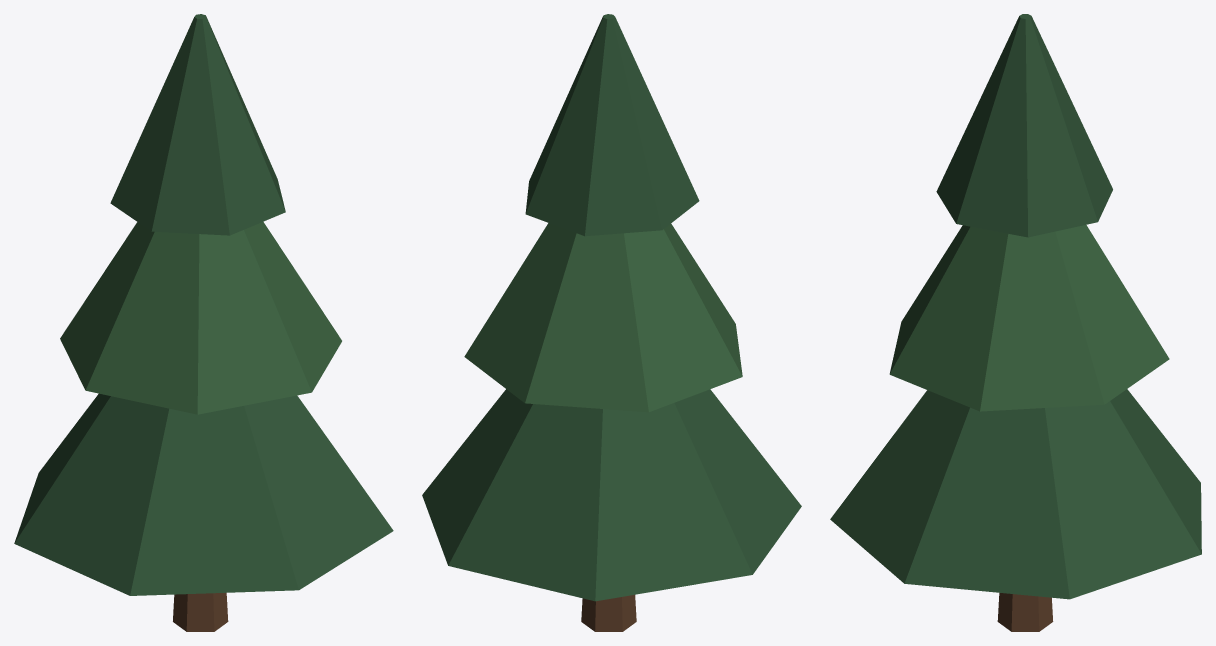
File: tree_conifer_full.glb
The picture shows the model from 3 angles, left to right: view 1: azimuth 30°, elevation 25°; view 2: azimuth 150°, elevation 25°; view 3: azimuth 270°, elevation 25°; orthographic projection.
Visible parts, largest first — view 1: tree_conifer_full.001; view 2: tree_conifer_full.001; view 3: tree_conifer_full.001.
Boxes of the visible parts, x1,y1,x2,y2 form: tree_conifer_full.001: (14, 14, 393, 631); tree_conifer_full.001: (422, 14, 801, 631); tree_conifer_full.001: (830, 14, 1201, 631).
Bounding box in the file's own units: 3.02 × 5.3 × 2.95.
Materials: 1 (1 with a texture image).
